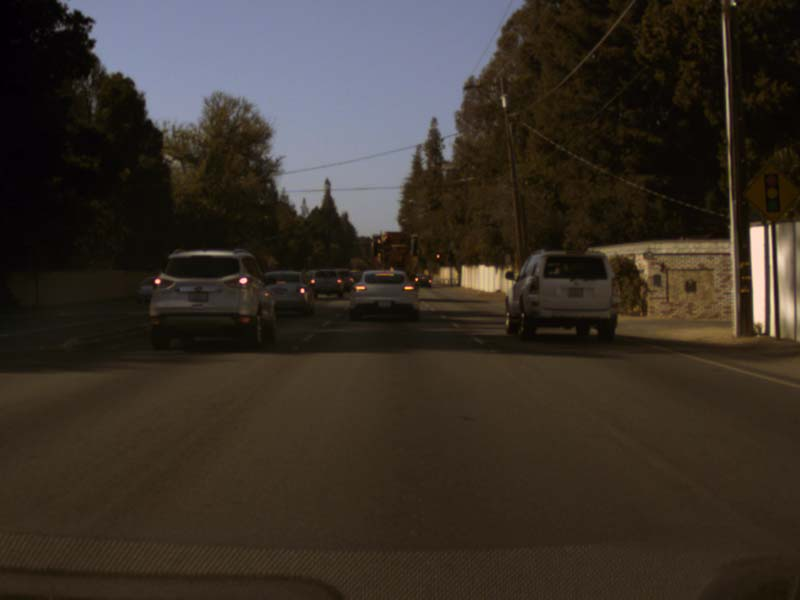Yellow: (434, 252, 440, 260)
